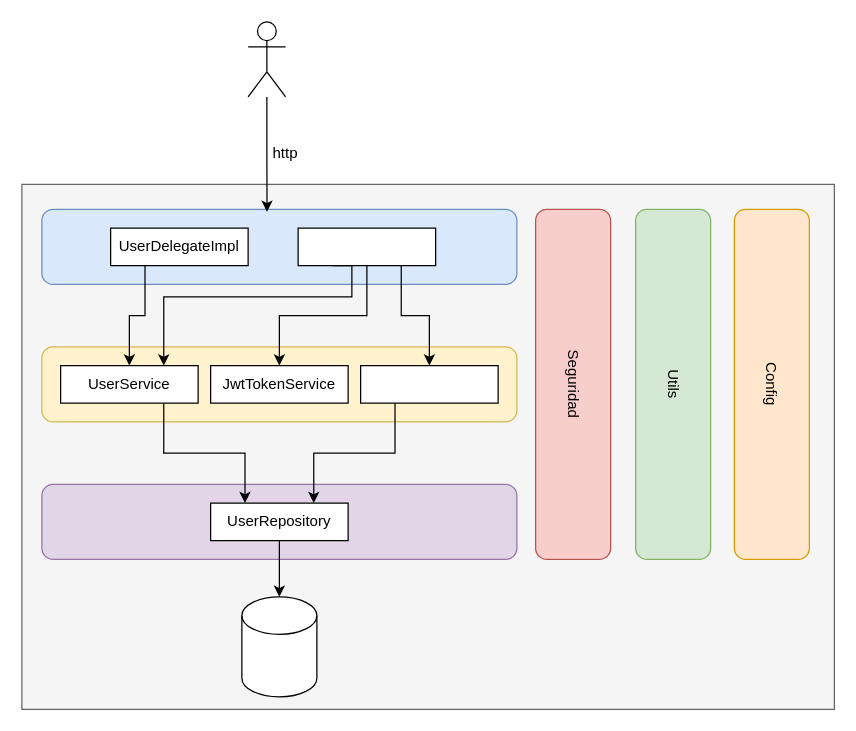
This 856x731 diagram has some shape labels left out. The box of each missing label's shape, as (x1, y1, x2, y2) in pixels:
AuthDelegateImpl: (297, 227, 436, 266)
AuthService: (359, 364, 498, 403)
H2: (241, 596, 317, 697)
Usuario: (247, 21, 286, 97)
